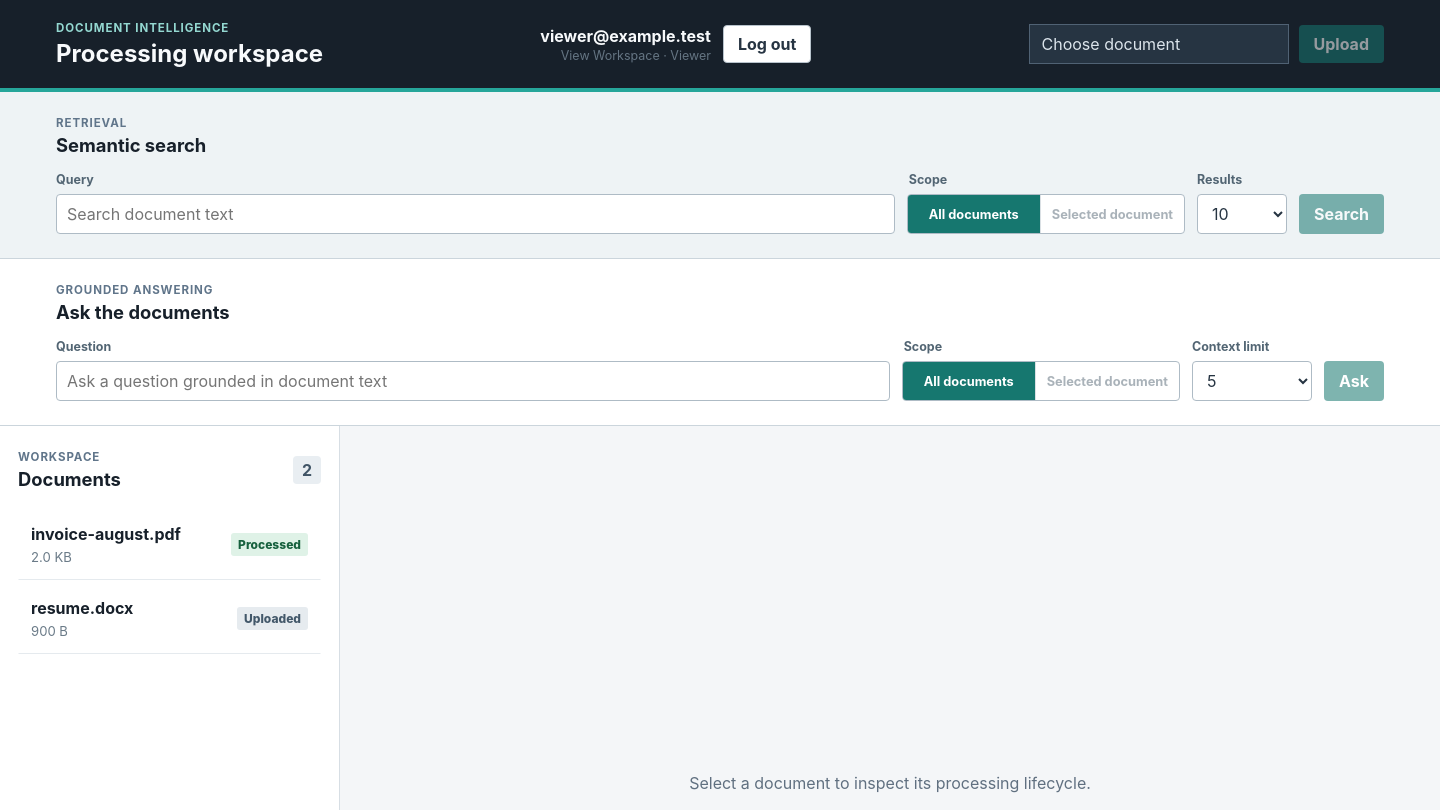
Test: authentication and role controls › disables administrative and review controls for viewers
The width and height of the screenshot is (1440, 810).
Step 1. Click the button "invoice-august.pdf 2.0 KB Processed" → x=170, y=544, box [18,508,321,580]
(page scrolled)
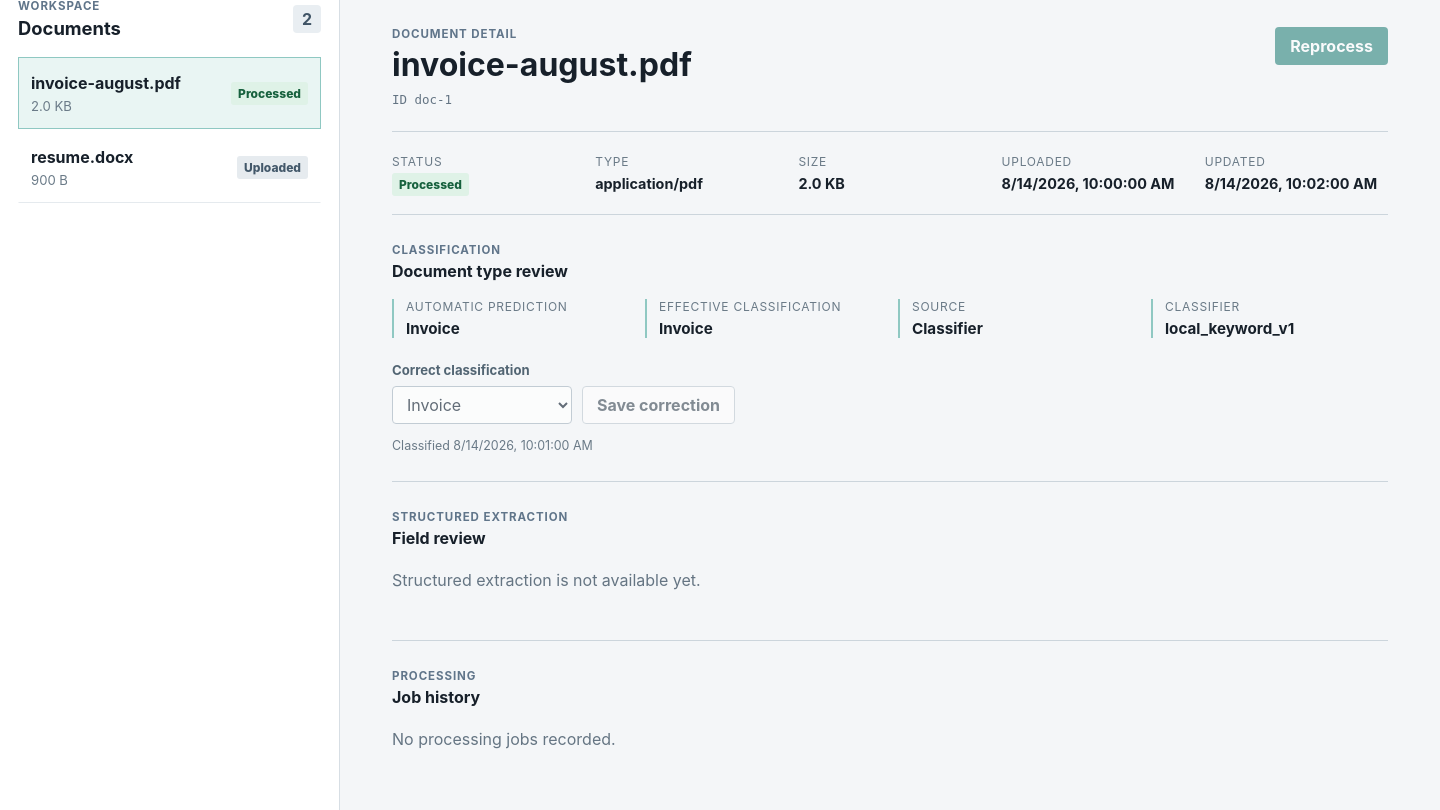
Expected: the button "Reprocess" is disabled, [1275,27,1388,65]
Expected: the button "Save correction" is disabled, [582,386,735,424]
